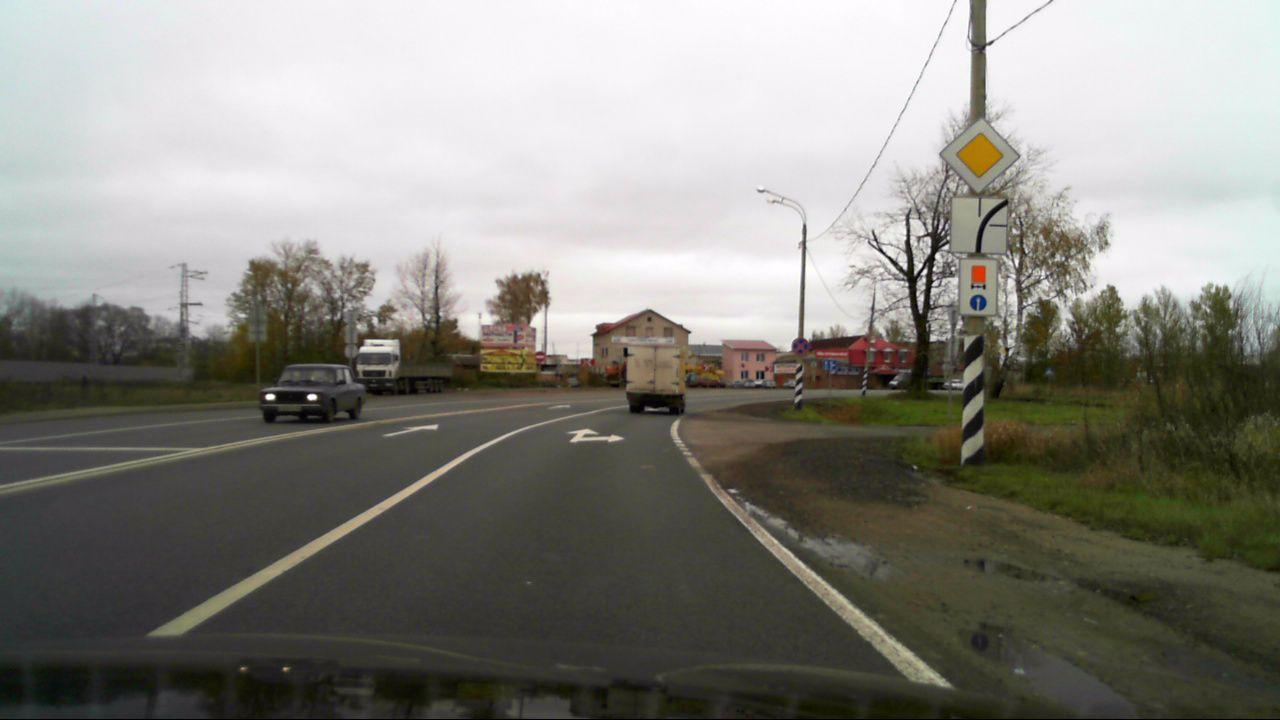road_sign: (935, 115, 1025, 196), (949, 195, 1010, 256), (790, 335, 810, 357)
